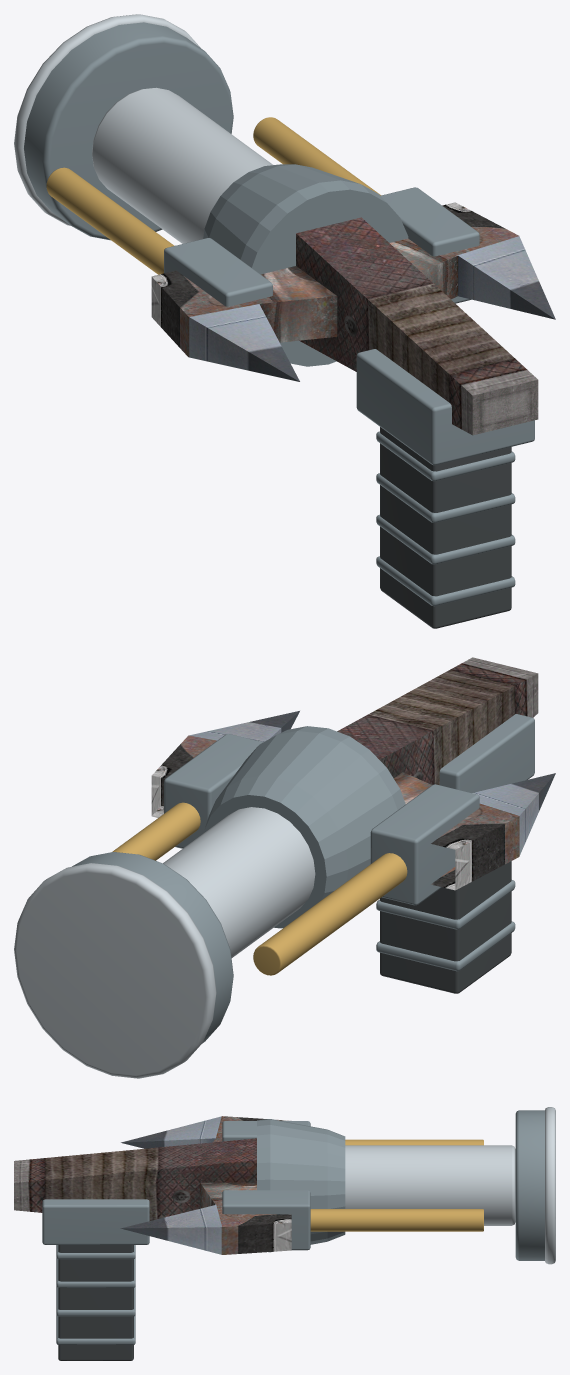
The model's file is impact_hammer.glb.
3 renders of one model, top to bottom at view 1: azimuth 30°, elevation 25°; view 2: azimuth 150°, elevation 25°; view 3: azimuth 270°, elevation 25°, orthographic. The views are drawn at different scales.
Parts seen in each view (by area): view 1: CC0 AFPS chainsaw receiver, Impact face, Rubber pistol grip, Pneumatic piston, Ram receiver collar, Grip bracket, Piston guide, Ram mounting lug, Ram mounting lug.001, Impact face rim, Piston guide.001, Grip rib.002 (+3 smaller); view 2: Impact face rim, CC0 AFPS chainsaw receiver, Ram receiver collar, Pneumatic piston, Rubber pistol grip, Ram mounting lug, Piston guide, Grip bracket, Impact face, Ram mounting lug.001, Piston guide.001, Grip rib.002 (+1 smaller); view 3: CC0 AFPS chainsaw receiver, Pneumatic piston, Rubber pistol grip, Ram receiver collar, Grip bracket, Impact face, Piston guide.001, Ram mounting lug.001, Impact face rim, Piston guide, Ram mounting lug, Grip rib.002 (+3 smaller).
Part boxes in pixels (x1,y1,x2,y2): CC0 AFPS chainsaw receiver: (151, 202, 555, 435); Impact face: (24, 22, 233, 240); Rubber pistol grip: (380, 427, 511, 628); Pneumatic piston: (92, 87, 272, 243); Ram receiver collar: (203, 164, 408, 366); Grip bracket: (356, 349, 534, 465); Piston guide: (46, 167, 174, 274); Ram mounting lug: (164, 238, 272, 306); Ram mounting lug.001: (380, 187, 479, 303); Impact face rim: (14, 14, 200, 225); Piston guide.001: (253, 117, 380, 195); Grip rib.002: (376, 514, 515, 564); Impact face rim: (14, 863, 216, 1078); CC0 AFPS chainsaw receiver: (151, 657, 555, 890); Ram receiver collar: (204, 726, 405, 928); Pneumatic piston: (163, 807, 315, 957); Rubber pistol grip: (380, 861, 511, 993); Ram mounting lug: (370, 784, 479, 905); Piston guide: (253, 853, 407, 975); Grip bracket: (439, 714, 534, 792); Impact face: (72, 852, 233, 1043); Ram mounting lug.001: (164, 734, 262, 848); Piston guide.001: (112, 802, 200, 860); Grip rib.002: (376, 880, 515, 929); CC0 AFPS chainsaw receiver: (14, 1116, 291, 1254); Pneumatic piston: (345, 1145, 515, 1225); Rubber pistol grip: (58, 1245, 133, 1360); Ram receiver collar: (257, 1119, 345, 1252); Grip bracket: (42, 1199, 149, 1244); Impact face: (515, 1110, 544, 1260); Piston guide.001: (310, 1209, 483, 1231); Ram mounting lug.001: (222, 1190, 310, 1250); Impact face rim: (545, 1107, 555, 1264); Piston guide: (345, 1139, 483, 1145); Ram mounting lug: (222, 1121, 310, 1141); Grip rib.002: (56, 1286, 135, 1316).
Bounding box in the file's own units: 0.4163 × 0.41 × 0.859.
Materials: 5 (1 with a texture image).
